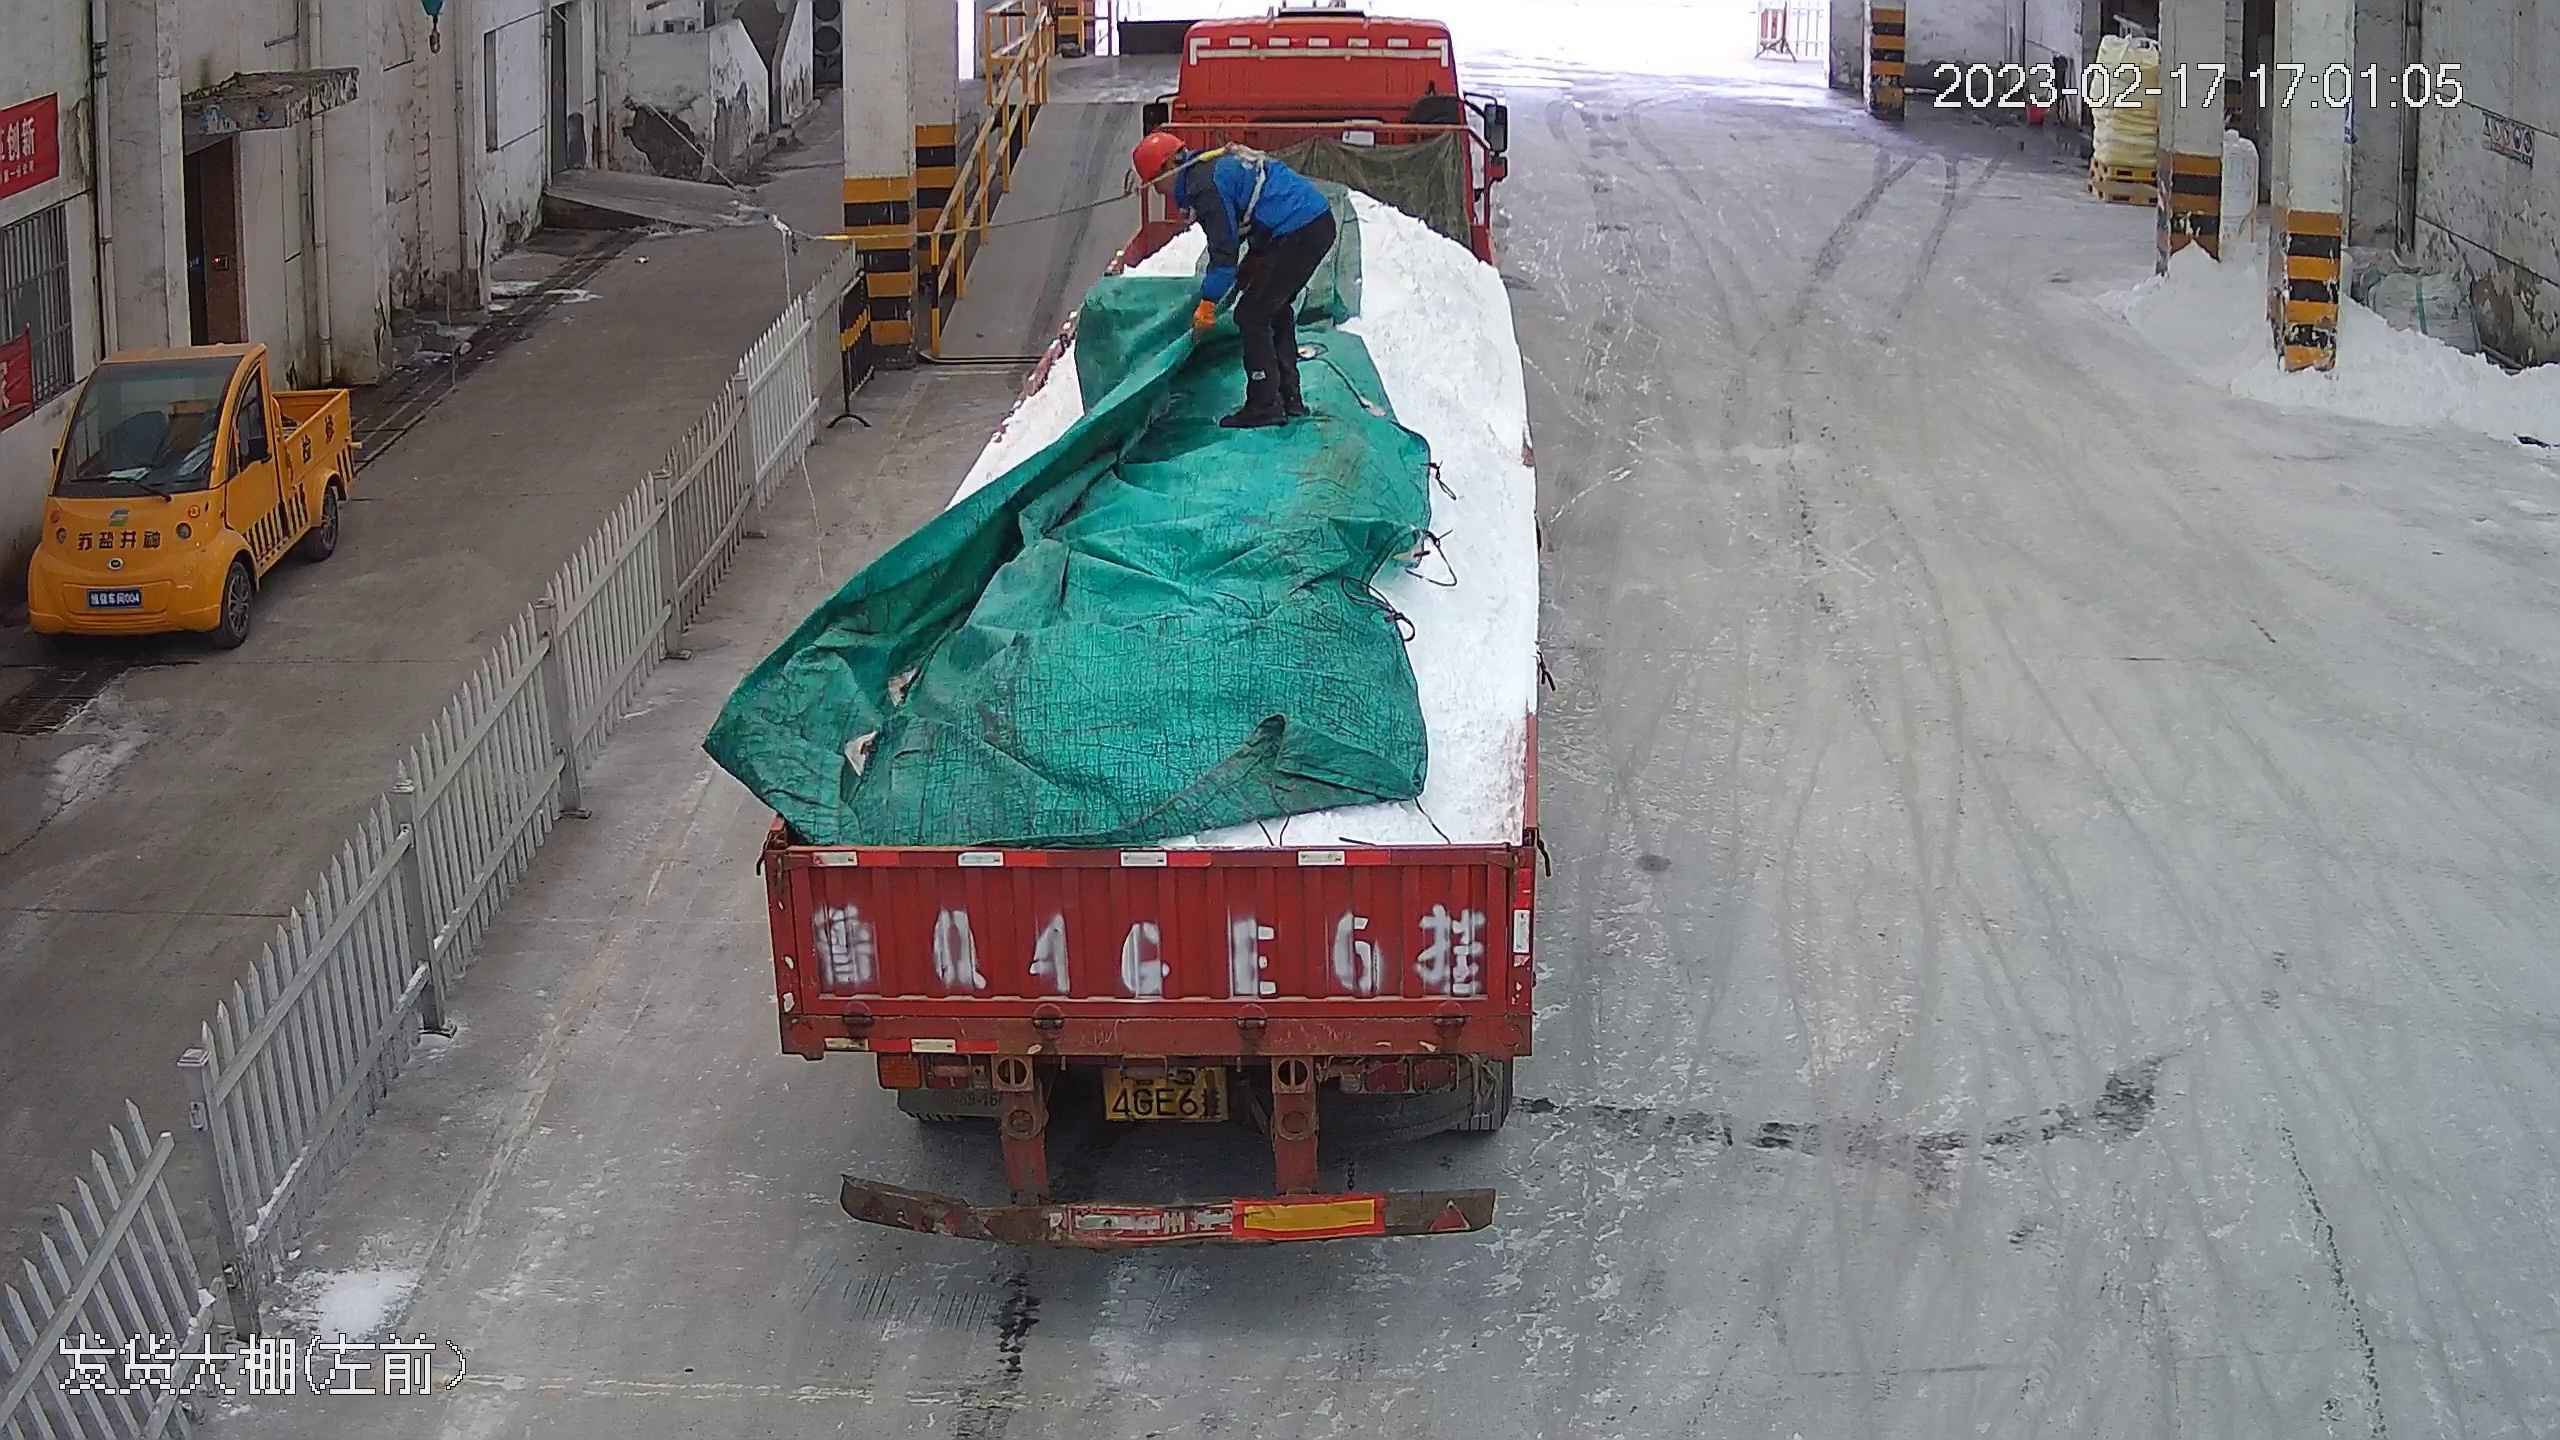belt: (1193, 144, 1284, 222)
head: (1134, 134, 1241, 213)
helmet: (1120, 136, 1190, 176)
people: (1120, 134, 1335, 425)
truck: (758, 8, 1530, 1236)
